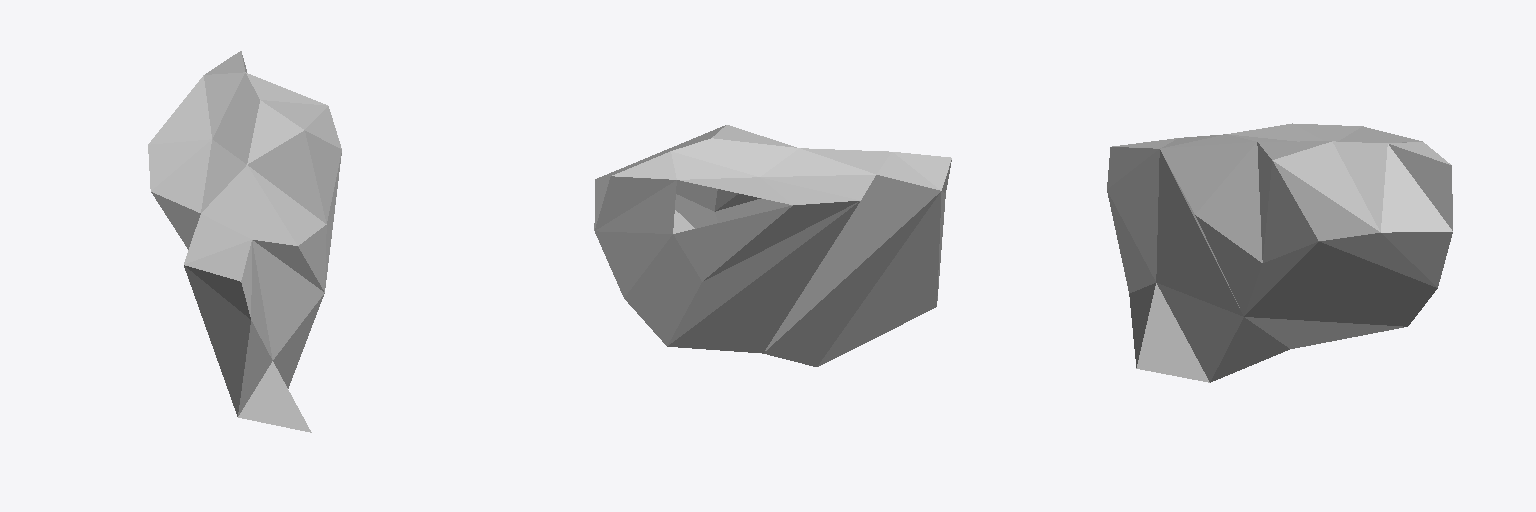
File: ShatterPar04.obj
3 views of the same model, side by side, from view 1: azimuth 30°, elevation 25°; view 2: azimuth 150°, elevation 25°; view 3: azimuth 270°, elevation 25° (orthographic).
Parts seen in each view (by area): view 1: ShatterPar04; view 2: ShatterPar04; view 3: ShatterPar04.
Part boxes in pixels (bbox=[...]): ShatterPar04: bbox=[148, 51, 341, 432]; ShatterPar04: bbox=[594, 125, 951, 366]; ShatterPar04: bbox=[1107, 123, 1452, 382].
Size of the model in its own units: 0.9612 by 0.9979 by 1.17.